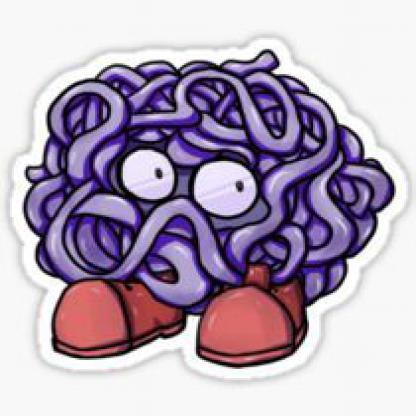Tangela: (11, 34, 393, 386)
